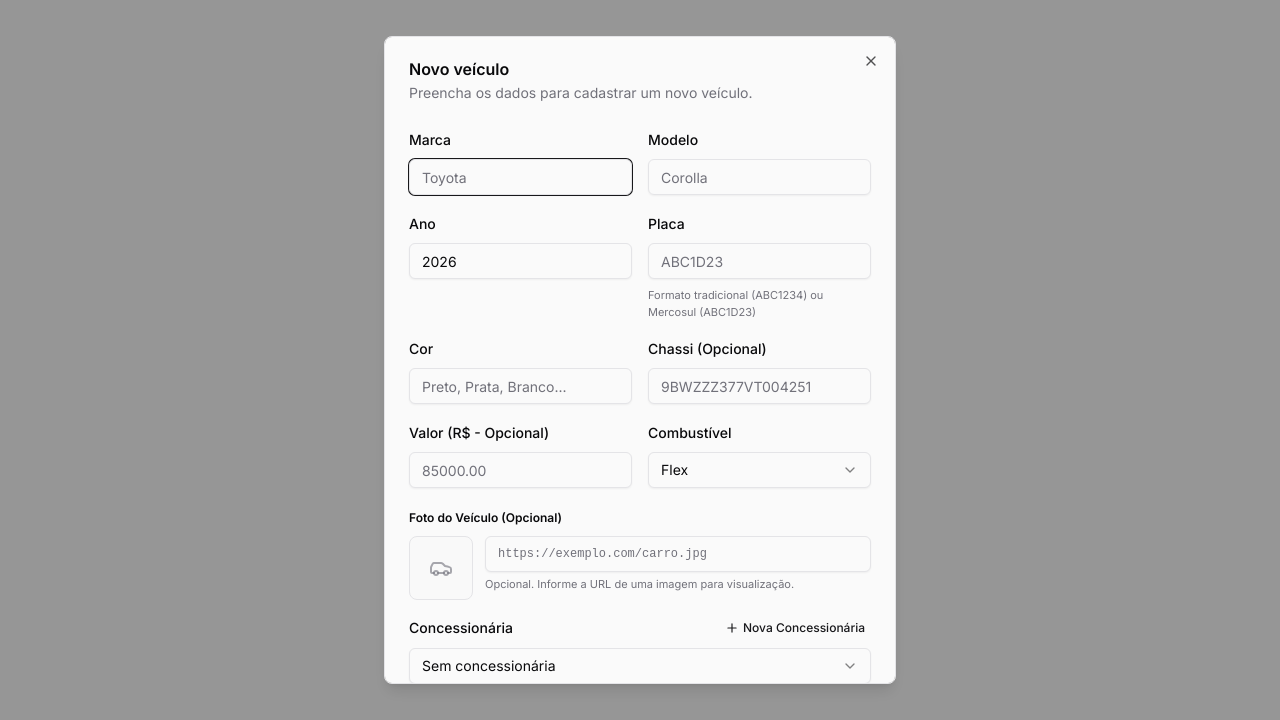
Test case: VehicleFormDialog › should show validation errors when submitting required empty fields
The image size is (1280, 720).
Clear the field labelled "Modelo" at (760, 177), box x1=648 y1=159 x2=871 y2=195
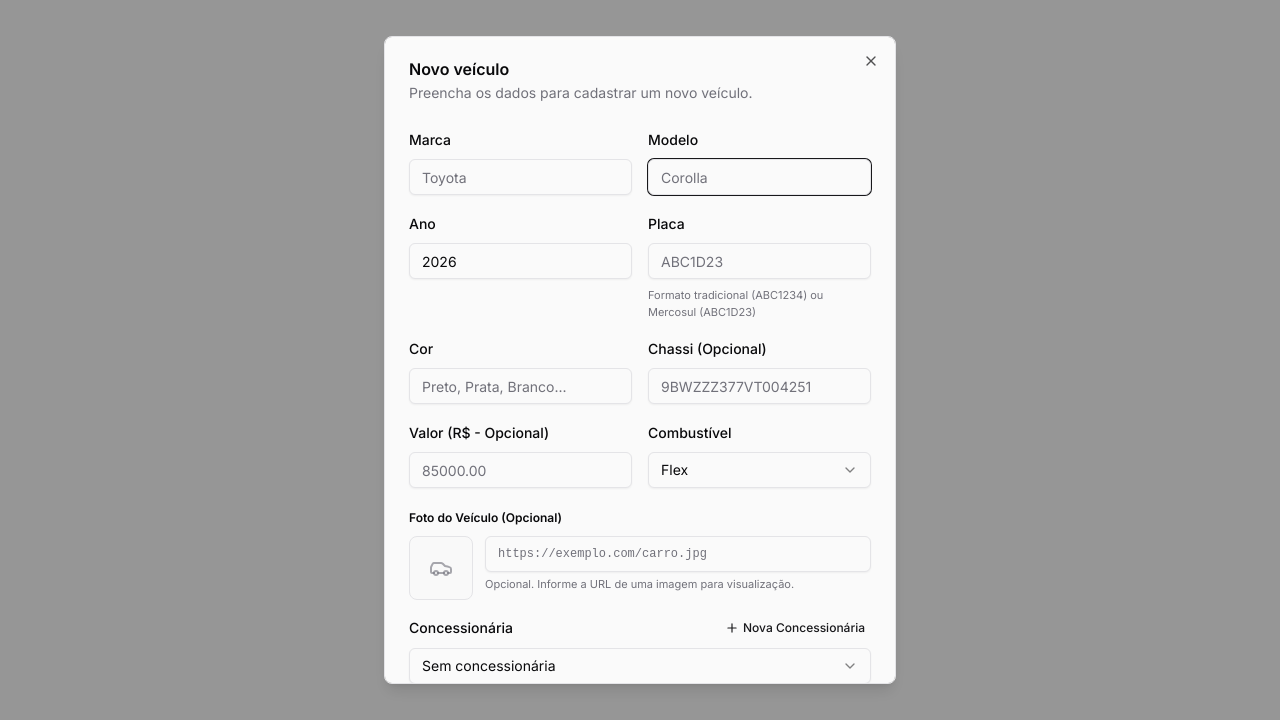
Clear the field labelled "Placa" at (760, 261), box x1=648 y1=243 x2=871 y2=279
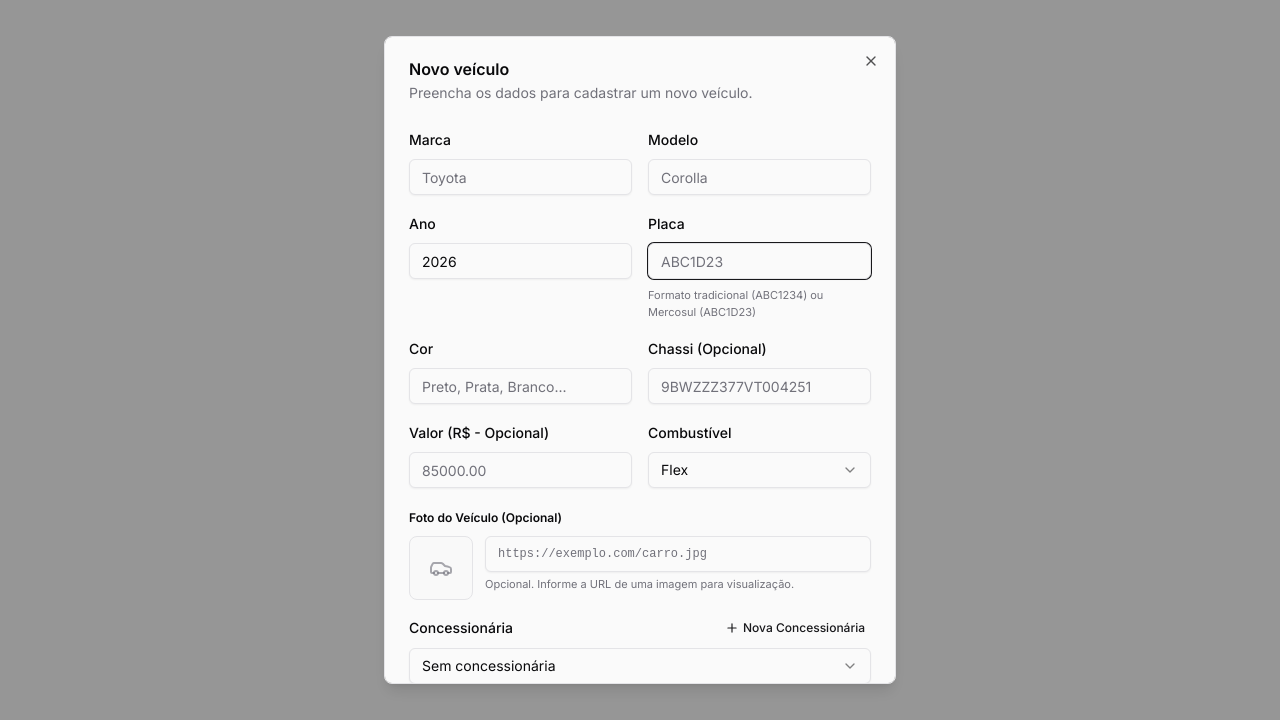
Clear the field labelled "Cor" at (520, 386), box x1=409 y1=368 x2=632 y2=404
(page scrolled)
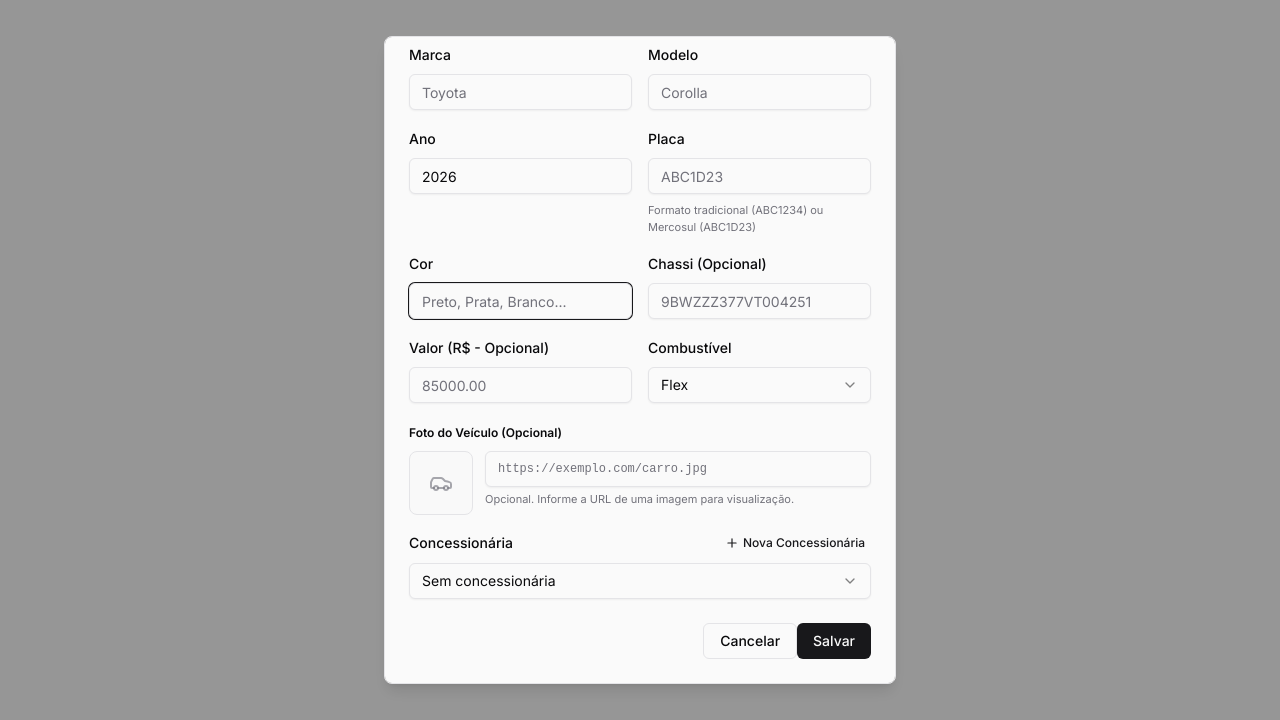
Click the button "Salvar" at (834, 641), box x1=797 y1=623 x2=871 y2=659
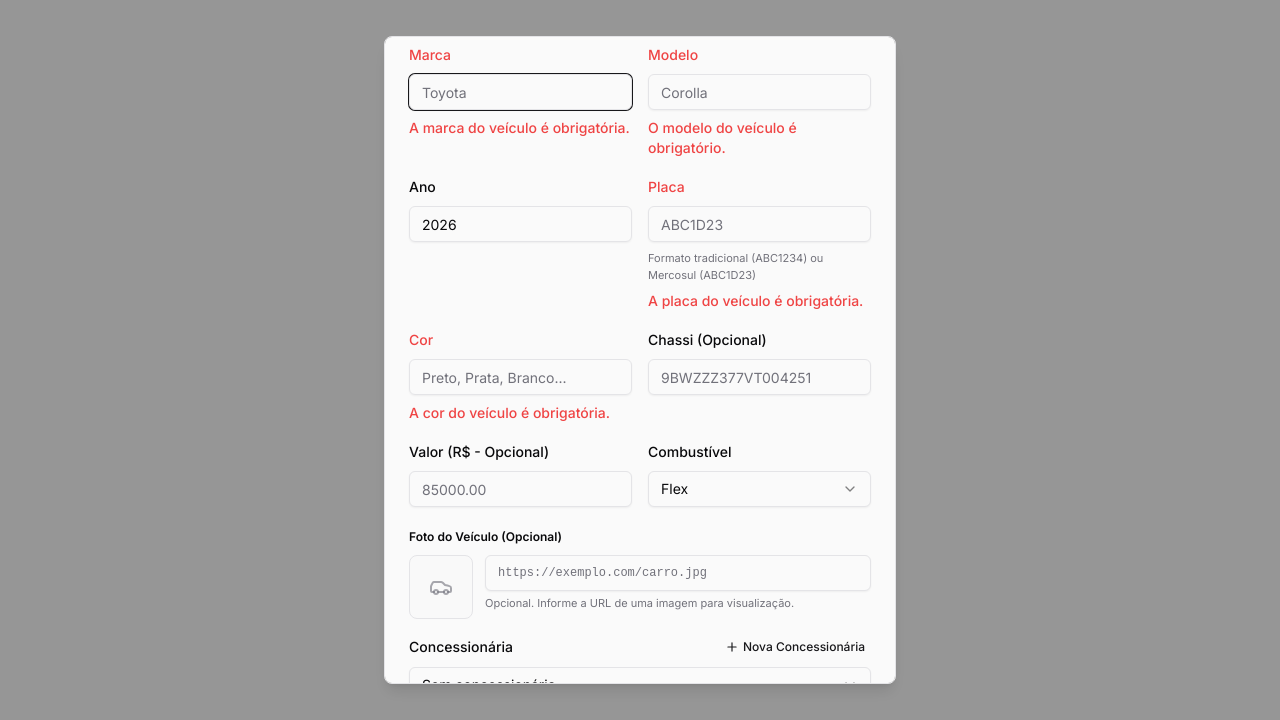
Expected: the text "A marca do veículo é obrigatória." is shown, x1=409 y1=118 x2=632 y2=138
Expected: the text "O modelo do veículo é obrigatório." is shown, x1=648 y1=119 x2=797 y2=156
Expected: the text "A placa do veículo é obrigatória." is shown, x1=648 y1=291 x2=871 y2=311
